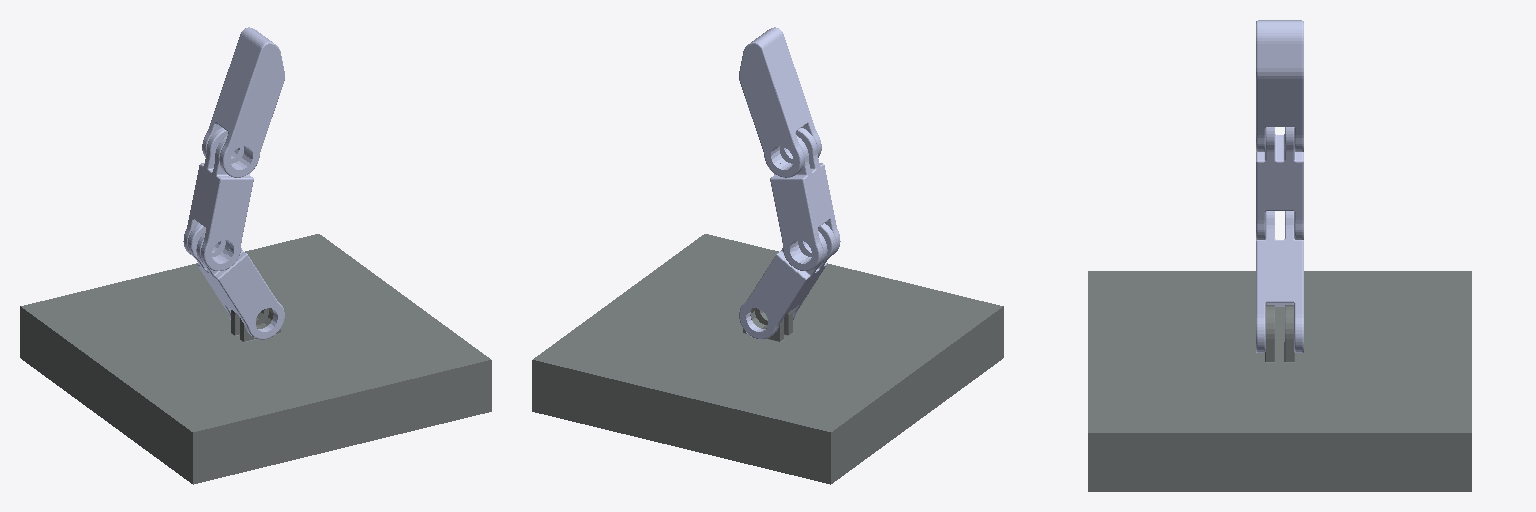
robot.urdf — MechFinger:
<?xml version="1.0" encoding="utf-8"?>
<!-- This URDF was automatically created by SolidWorks to URDF Exporter! Originally created by [author] ([email redacted]) 
     Commit Version: 1.6.0-4-g7f85cfe  Build Version: 1.6.7995.38578
     For more information, please see http://wiki.ros.org/sw_urdf_exporter -->
<robot
  name="MechFinger">
  <link
    name="base_link">
    <inertial>
      <origin
        xyz="4.5992E-18 -0.0099501 0.03"
        rpy="0 0 0" />
      <mass
        value="2.2532" />
      <inertia
        ixx="0.0027726"
        ixy="5.064E-20"
        ixz="7.5802E-20"
        iyy="0.0053916"
        iyz="1.4086E-20"
        izz="0.0027727" />
    </inertial>
    <visual>
      <origin
        xyz="0 0 0"
        rpy="0 0 0" />
      <geometry>
        <mesh
          filename="package://MechFinger/meshes/base_link.STL" />
      </geometry>
      <material
        name="">
        <color
          rgba="0.52941 0.54902 0.54902 1" />
      </material>
    </visual>
    <collision>
      <origin
        xyz="0 0 0"
        rpy="0 0 0" />
      <geometry>
        <mesh
          filename="package://MechFinger/meshes/base_link.STL" />
      </geometry>
    </collision>
  </link>
  <link
    name="link1">
    <inertial>
      <origin
        xyz="0.0175002150931184 -0.0075 -2.02182021125097E-15"
        rpy="0 0 0" />
      <mass
        value="0.0057358122751643" />
      <inertia
        ixx="2.1462842273792E-07"
        ixy="-1.42898877268077E-22"
        ixz="-1.32348898008484E-22"
        iyy="7.02033776204903E-07"
        iyz="2.43921581949899E-23"
        izz="7.16250826753962E-07" />
    </inertial>
    <visual>
      <origin
        xyz="0 0 0"
        rpy="0 0 0" />
      <geometry>
        <mesh
          filename="package://MechFinger/meshes/link1.STL" />
      </geometry>
      <material
        name="">
        <color
          rgba="0.792156862745098 0.819607843137255 0.933333333333333 1" />
      </material>
    </visual>
    <collision>
      <origin
        xyz="0 0 0"
        rpy="0 0 0" />
      <geometry>
        <mesh
          filename="package://MechFinger/meshes/link1.STL" />
      </geometry>
    </collision>
  </link>
  <joint
    name="joint1"
    type="revolute">
    <origin
      xyz="0 -0.0225 0.008"
      rpy="3.1416 -1.0462 3.1416" />
    <parent
      link="base_link" />
    <child
      link="link1" />
    <axis
      xyz="0 0 1" />
    <limit
      lower="-1.57"
      upper="1.57"
      effort="10"
      velocity="100" />
  </joint>
  <link
    name="link2">
    <inertial>
      <origin
        xyz="0.0175002150931192 0.00749999999999999 -2.23085439010617E-15"
        rpy="0 0 0" />
      <mass
        value="0.0057358122751643" />
      <inertia
        ixx="2.1462842273792E-07"
        ixy="2.37823483221812E-22"
        ixz="-1.38966342908909E-22"
        iyy="7.02033776204902E-07"
        iyz="1.11364230732143E-23"
        izz="7.16250826753962E-07" />
    </inertial>
    <visual>
      <origin
        xyz="0 0 0"
        rpy="0 0 0" />
      <geometry>
        <mesh
          filename="package://MechFinger/meshes/link2.STL" />
      </geometry>
      <material
        name="">
        <color
          rgba="0.792156862745098 0.819607843137255 0.933333333333333 1" />
      </material>
    </visual>
    <collision>
      <origin
        xyz="0 0 0"
        rpy="0 0 0" />
      <geometry>
        <mesh
          filename="package://MechFinger/meshes/link2.STL" />
      </geometry>
    </collision>
  </link>
  <joint
    name="joint2"
    type="revolute">
    <origin
      xyz="0.035 0 0"
      rpy="-3.1416 0.741 0" />
    <parent
      link="link1" />
    <child
      link="link2" />
    <axis
      xyz="0 0 1" />
    <limit
      lower="-1.57"
      upper="1.57"
      effort="10"
      velocity="100" />
  </joint>
  <link
    name="fingertip">
    <inertial>
      <origin
        xyz="0.0214441157580348 -0.00749999999899943 0.000363766379078943"
        rpy="0 0 0" />
      <mass
        value="0.00752238112648173" />
      <inertia
        ixx="2.74880881878481E-07"
        ixy="-1.23037033806224E-16"
        ixz="-4.60531164771403E-08"
        iyy="1.12605308893331E-06"
        iyz="-2.44263561760782E-17"
        izz="1.16112796100964E-06" />
    </inertial>
    <visual>
      <origin
        xyz="0 0 0"
        rpy="0 0 0" />
      <geometry>
        <mesh
          filename="package://MechFinger/meshes/fingertip.STL" />
      </geometry>
      <material
        name="">
        <color
          rgba="0.792156862745098 0.819607843137255 0.933333333333333 1" />
      </material>
    </visual>
    <collision>
      <origin
        xyz="0 0 0"
        rpy="0 0 0" />
      <geometry>
        <mesh
          filename="package://MechFinger/meshes/fingertip.STL" />
      </geometry>
    </collision>
  </link>
  <joint
    name="endeffectorjoint"
    type="revolute">
    <origin
      xyz="0.035 0 0"
      rpy="3.1416 -0.15223 0" />
    <parent
      link="link2" />
    <child
      link="fingertip" />
    <axis
      xyz="0 0 1" />
    <limit
      lower="-1.57"
      upper="1.57"
      effort="10"
      velocity="100" />
  </joint>
</robot>

--- Render facts (derived) ---
3 views of the same robot in one strip: view 1: azimuth 30°, elevation 25°; view 2: azimuth 150°, elevation 25°; view 3: azimuth 270°, elevation 25° (orthographic).
Model MechFinger with 4 links and 3 joints (3 revolute), rooted at base_link, posed every joint at zero.
Visible links, largest first — view 1: base_link, fingertip, link2, link1; view 2: base_link, fingertip, link2, link1; view 3: base_link, fingertip, link1, link2.
Boxes of the visible links, box(x1,y1,x2,y2) form: base_link: box(20, 234, 491, 484); fingertip: box(202, 27, 284, 177); link2: box(183, 128, 253, 270); link1: box(188, 223, 284, 339); base_link: box(532, 234, 1003, 484); fingertip: box(739, 27, 821, 177); link2: box(770, 128, 840, 270); link1: box(739, 223, 835, 339); base_link: box(1088, 271, 1471, 491); fingertip: box(1256, 20, 1303, 151); link1: box(1256, 211, 1303, 352); link2: box(1256, 127, 1303, 239).
Size in the robot's own frame: 0.12 by 0.12 by 0.1343 metres.
Meshes: 4 distinct files referenced, 4 mesh visuals loaded (4 binary STL).